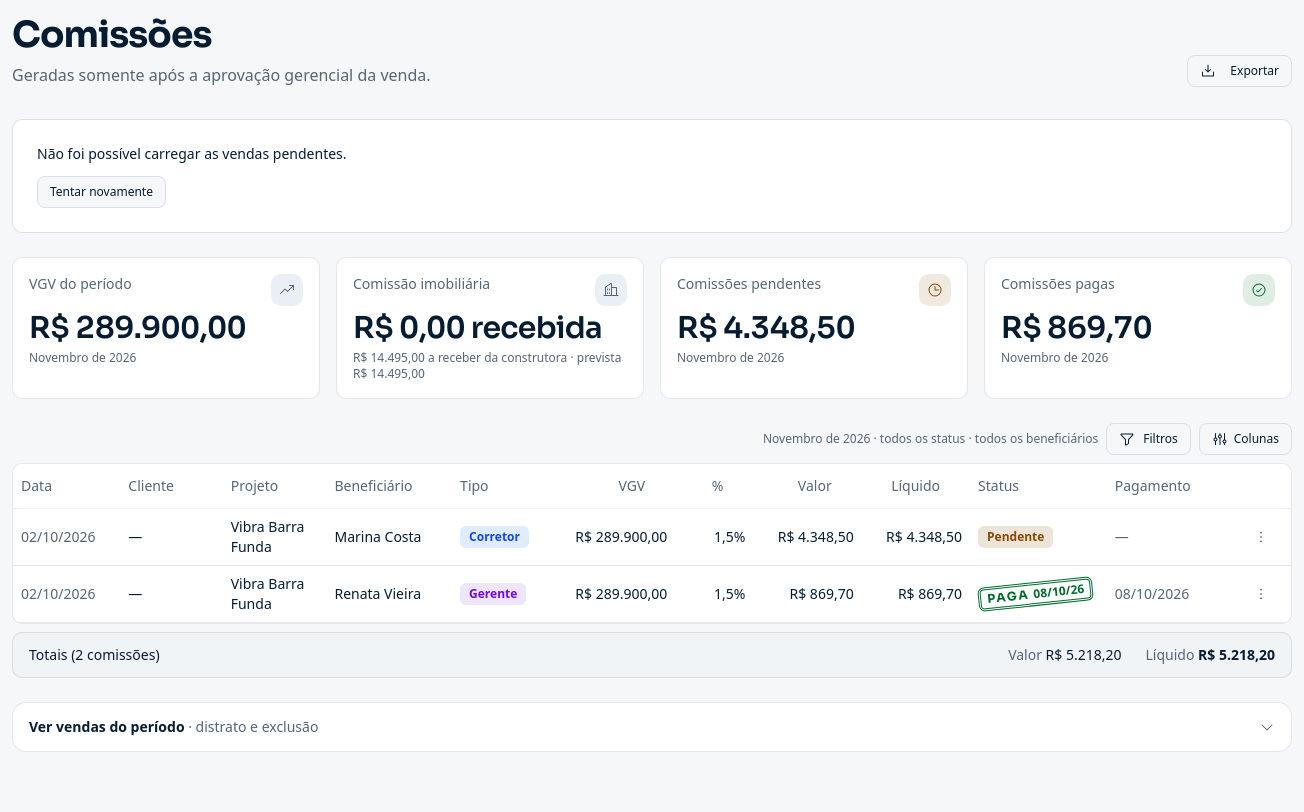
Test: Comissões no padrão Lançamento › o '…' de cada comissão mantém os itens e as condições de antes
Later steps or results of the test are not shown.
Expected: the text "Marina Costa" is shown, [334, 527, 422, 546]
Press the mouse on the button named "Ações da comissão" in the row of "Marina Costa" at (1261, 537), box [1239, 515, 1283, 559]
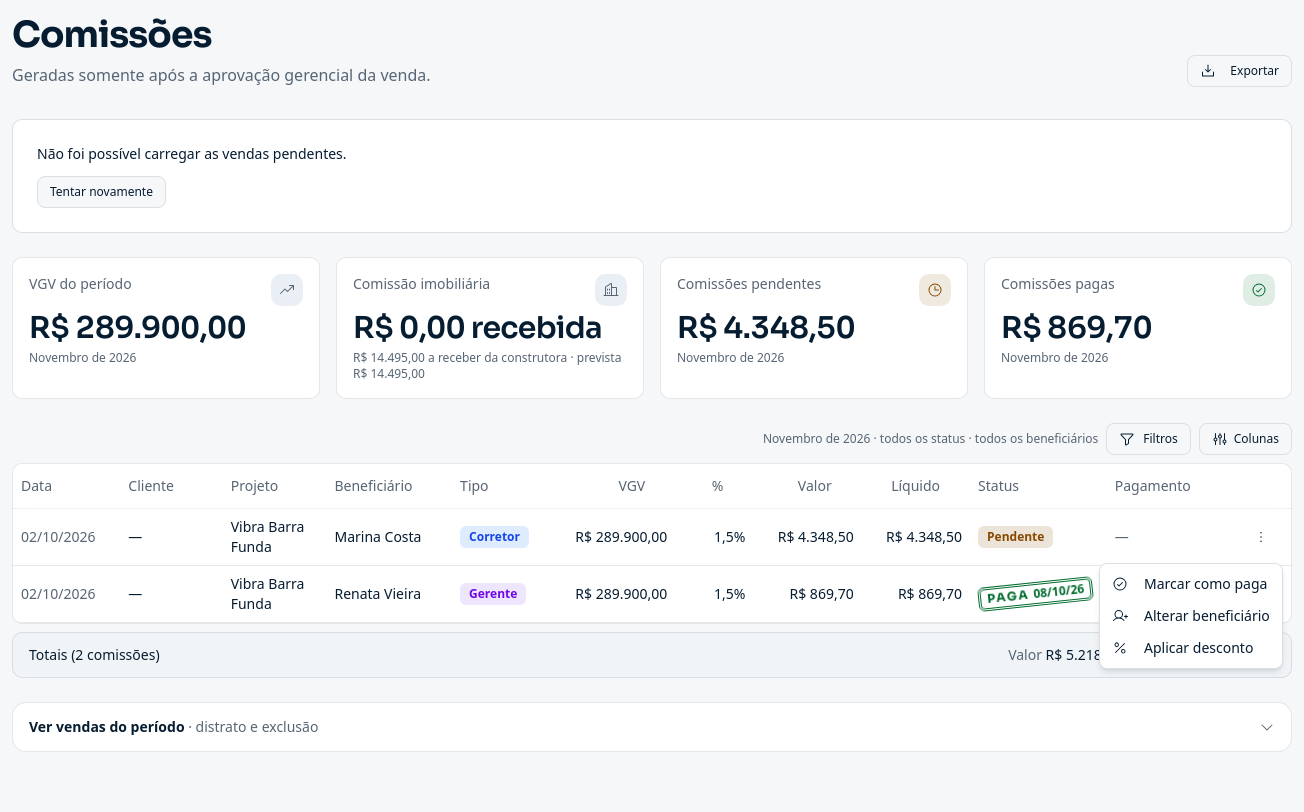
Expected: the menu item "Marcar como paga" is shown, [1112, 574, 1267, 593]
Expected: the menu item "Alterar beneficiário" is shown, [1112, 606, 1270, 625]
Expected: the menu item "Aplicar desconto" is shown, [1112, 638, 1253, 657]
